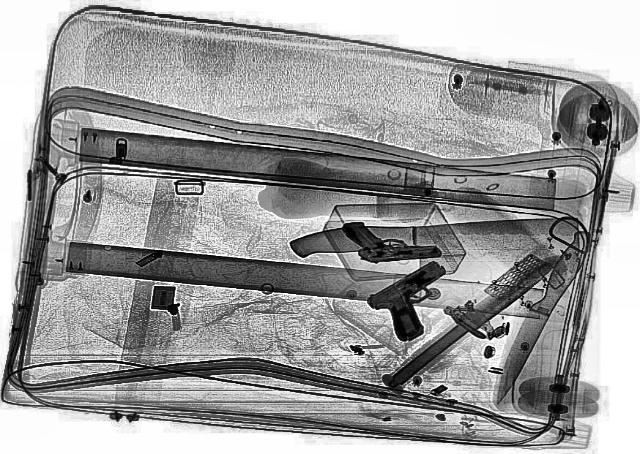Gun: (353, 260, 487, 344), (341, 214, 441, 264)
Knife: (380, 245, 570, 391), (286, 216, 584, 290), (482, 231, 594, 405)
